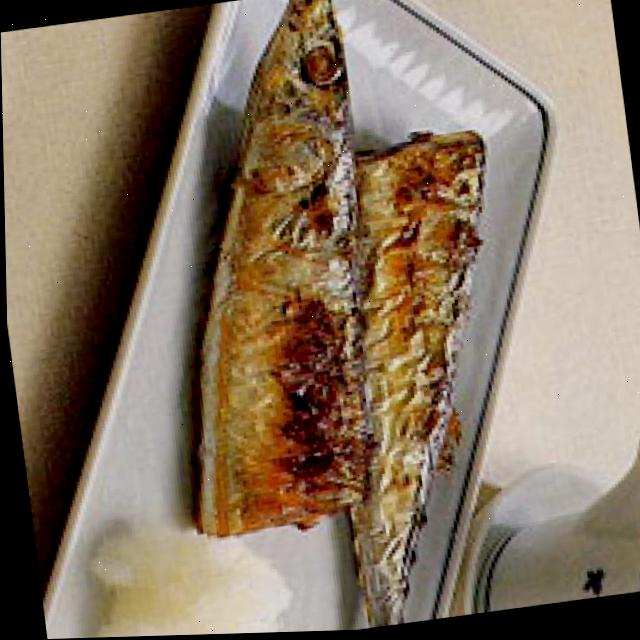熟制海鲜: (149, 0, 563, 610)
